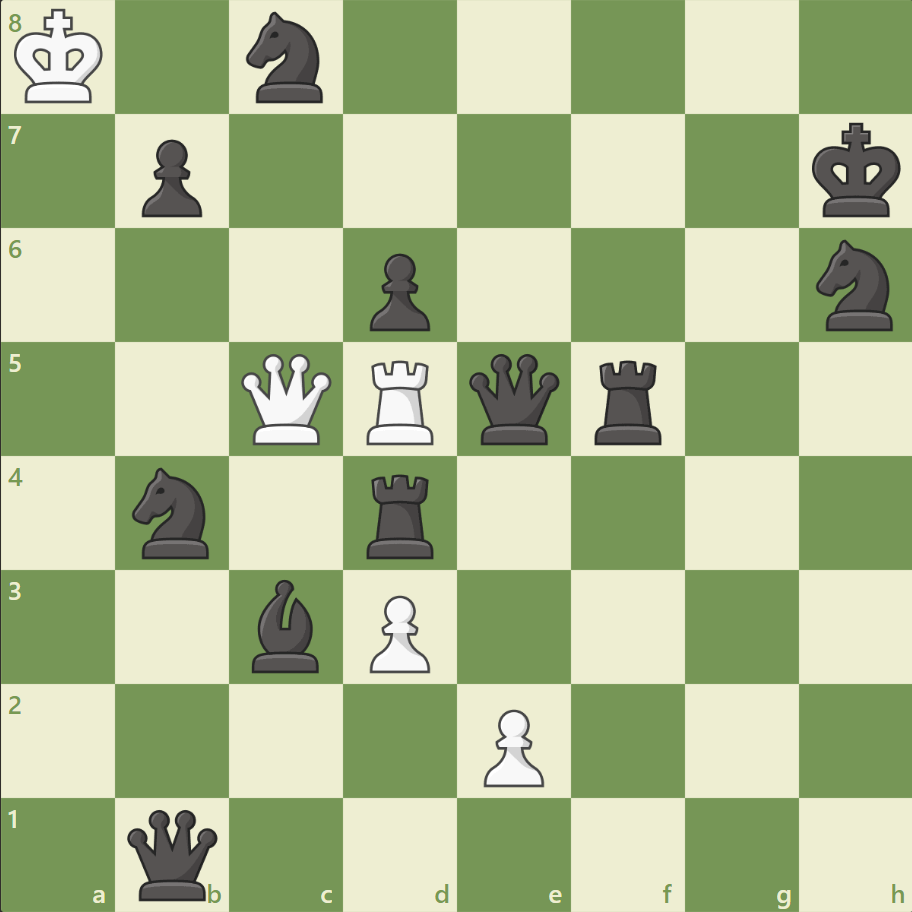K: (11, 4, 111, 112)
P: (474, 700, 549, 791), (361, 586, 435, 677)
Q: (237, 349, 336, 449)
R: (360, 352, 442, 449)
b: (244, 574, 328, 676)
k: (806, 117, 906, 225)
n: (124, 461, 222, 564), (238, 7, 335, 110), (806, 234, 903, 337)
p: (133, 132, 208, 223), (361, 246, 435, 337)
q: (464, 349, 563, 449), (124, 804, 223, 903)
r: (587, 352, 670, 449), (360, 466, 442, 563)
